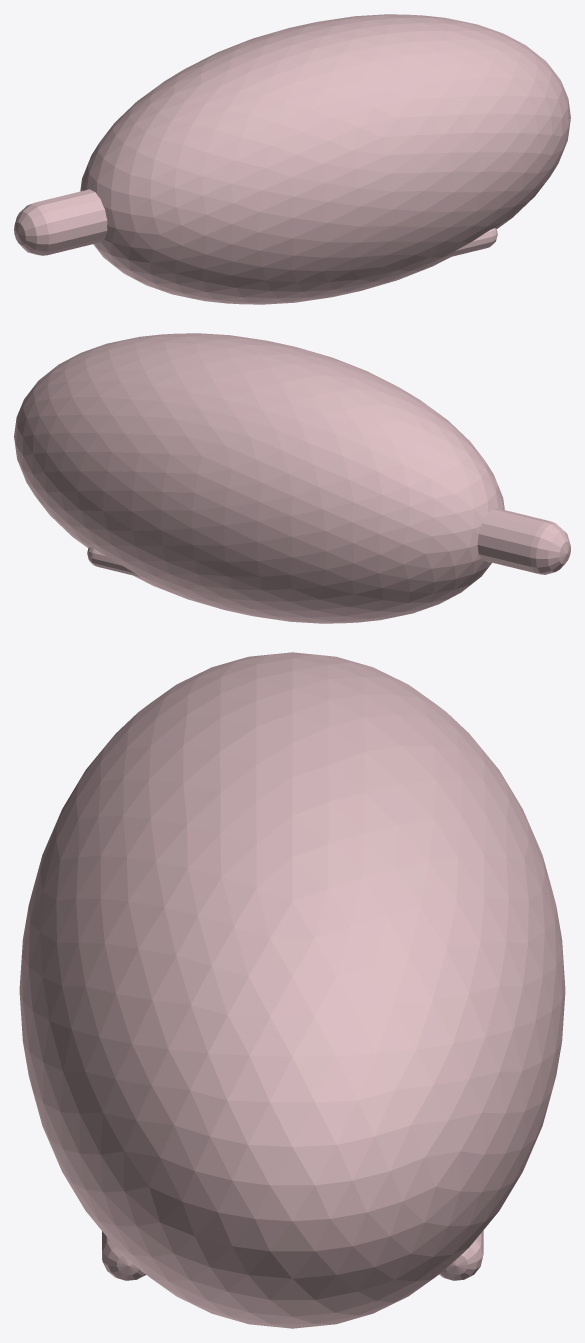
File: pink_baby_whale.glb
3 views of the same model, one above another, from view 1: azimuth 30°, elevation 25°; view 2: azimuth 150°, elevation 25°; view 3: azimuth 270°, elevation 25° (orthographic). The views are drawn at different scales.
Parts seen in each view (by area): view 1: world; view 2: world; view 3: world.
Boxes of the visible parts, x1,y1,x2,y2 form: world: (14, 14, 570, 304); world: (14, 333, 570, 623); world: (19, 652, 565, 1328).
Bounding box in the file's own units: 2.3 × 1 × 1.
